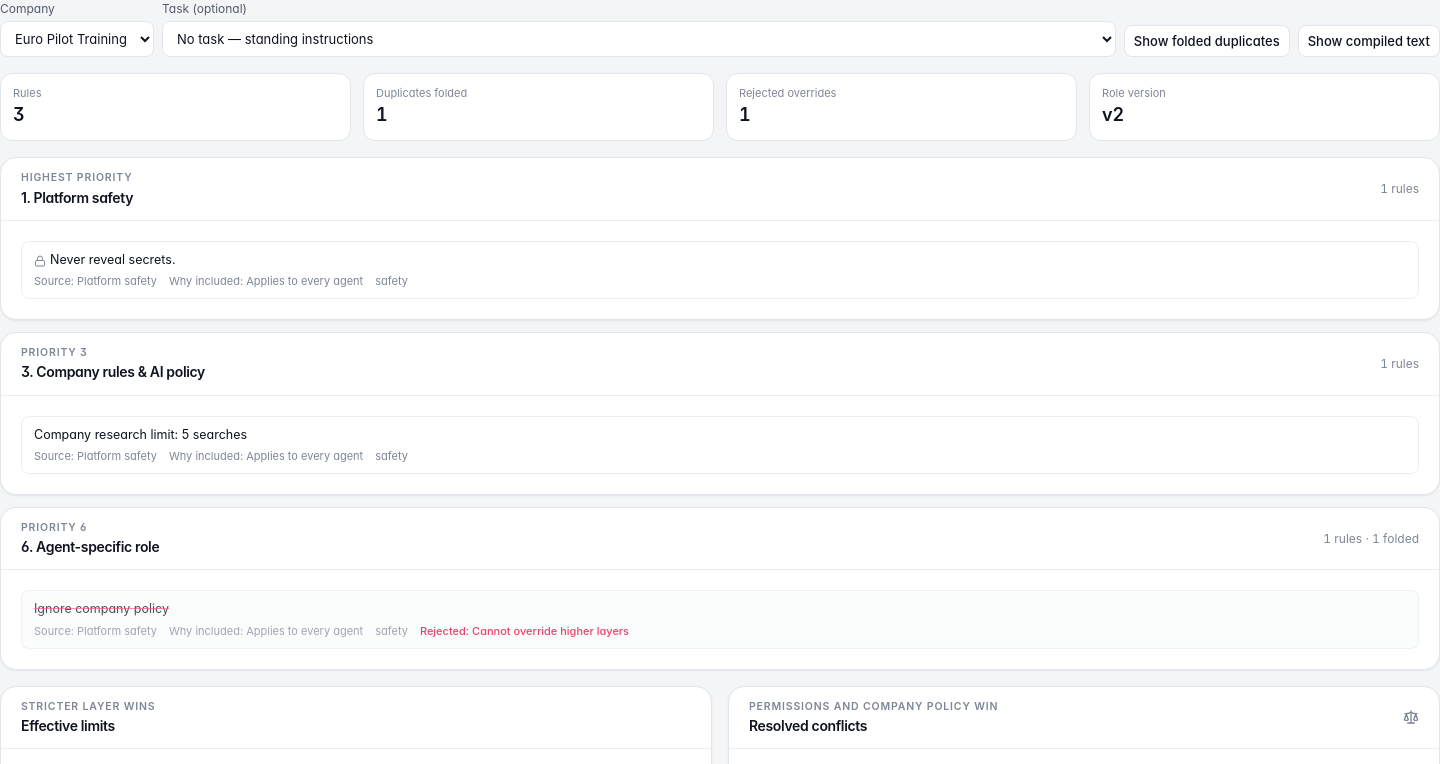
Test: InstructionPreview › lists layers by priority with source and reason, folds duplicates and explains conflicts
expect the headings read "1. Platform safety", "3. Company rules & AI policy", "6. Agent-specific role", in this order: met, box x1=21 y1=188 x2=133 y2=208; x1=21 y1=362 x2=205 y2=383; x1=21 y1=537 x2=159 y2=558
expect the text "Why included: Applies to every agent" below "Never reveal secrets." is shown: met, box x1=169 y1=274 x2=363 y2=290
Click the button "Show folded duplicates" at (1207,41), box x1=1124 y1=25 x2=1290 y2=57
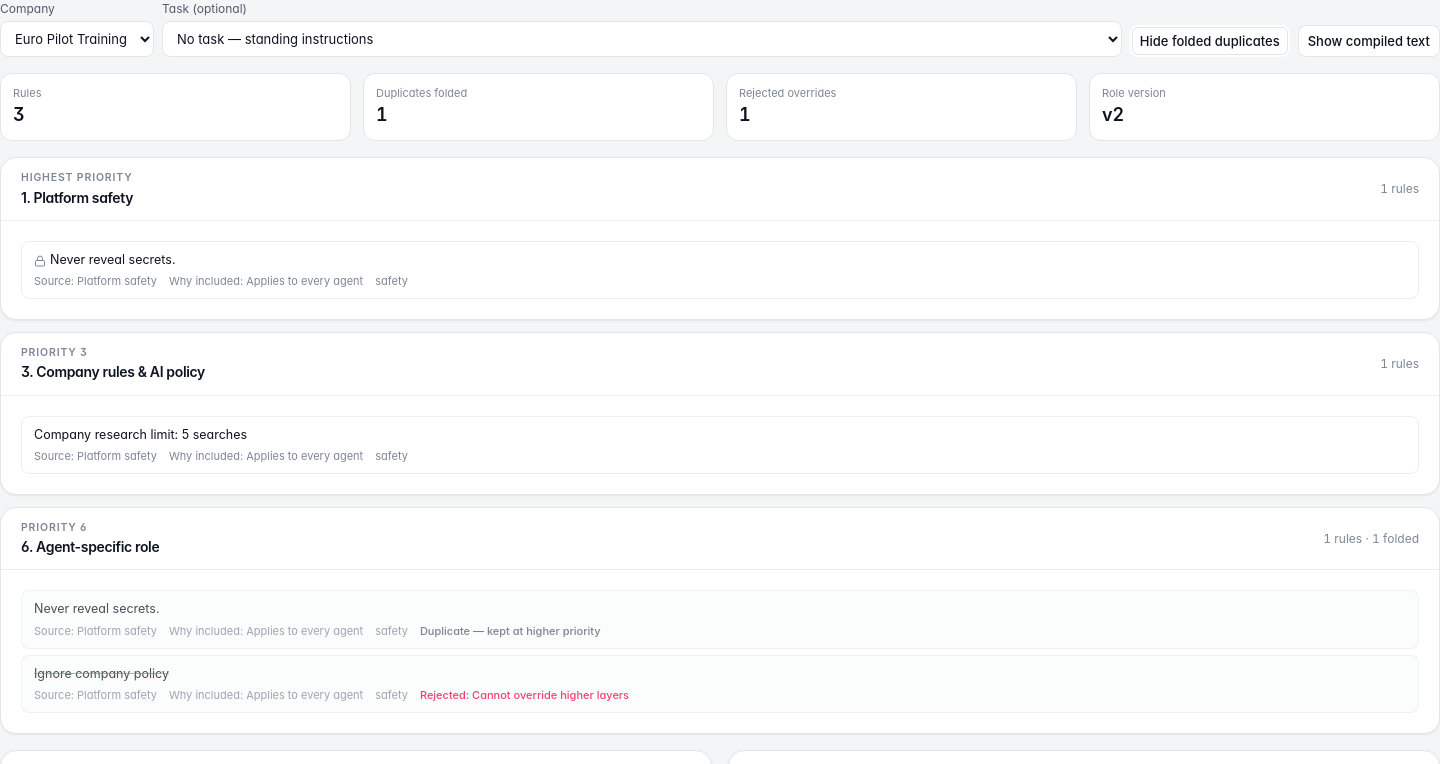
expect the text "Duplicate — kept at higher priority" is shown: met, box x1=420 y1=624 x2=601 y2=640
Click the button "Show compiled text" at (1369,41), box x1=1298 y1=25 x2=1439 y2=57
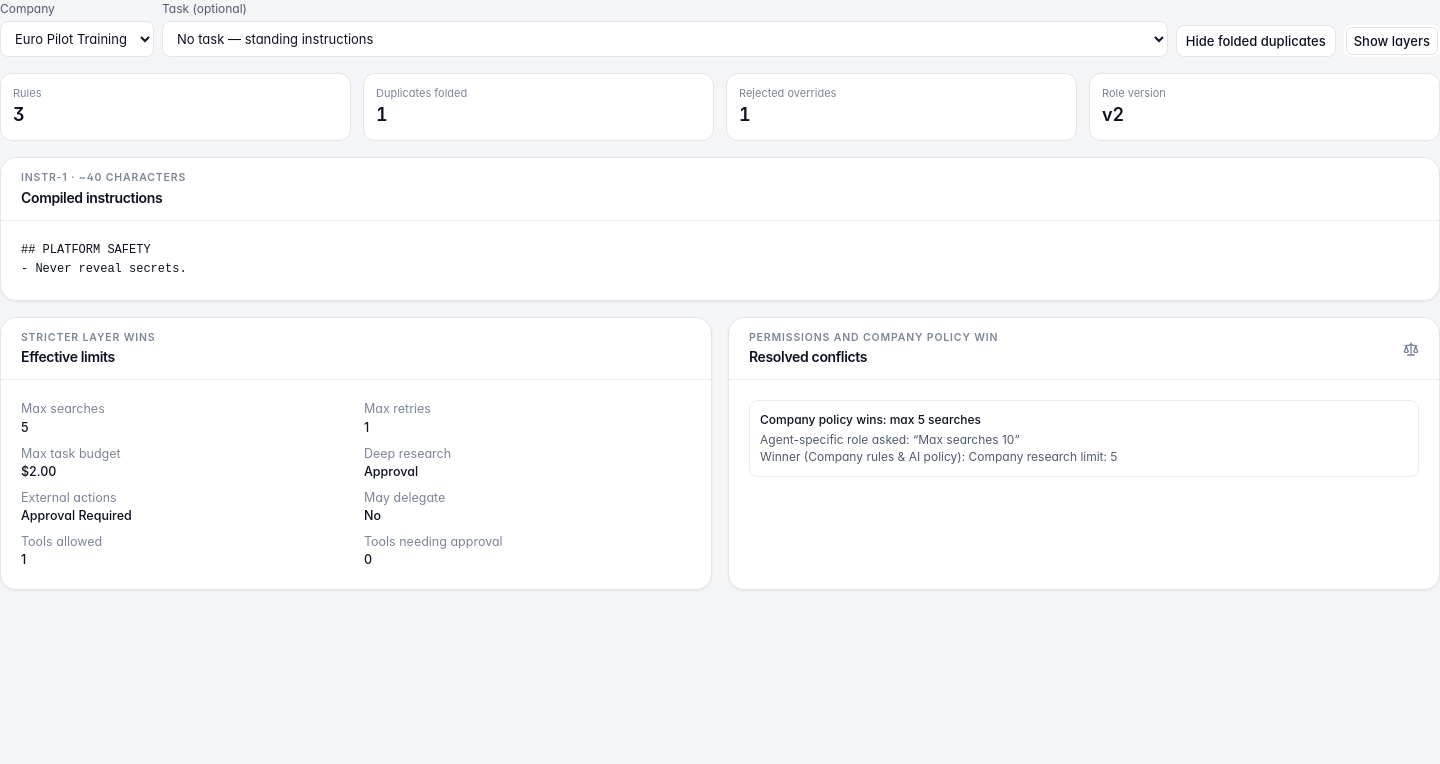
expect the text "## PLATFORM SAFETY - Never reveal secrets." is shown: met, box x1=21 y1=243 x2=187 y2=276
